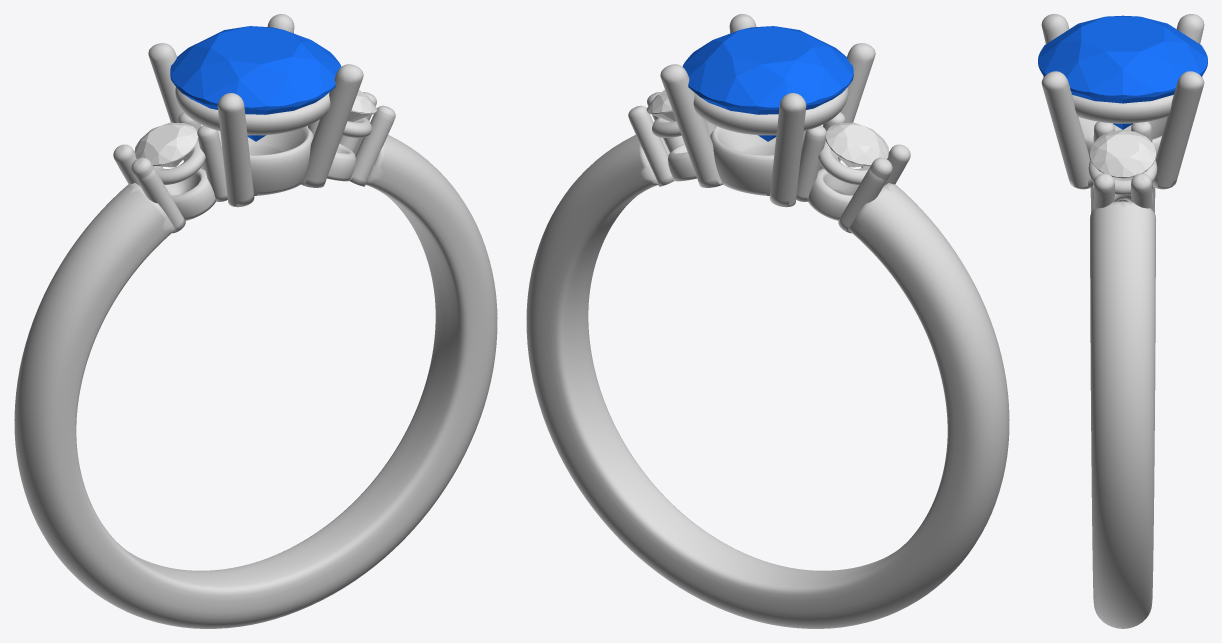
The model's file is bluesapphire-round-platinum-4prong-straightband-2stone.glb.
3 renders of one model, left to right at view 1: azimuth 30°, elevation 25°; view 2: azimuth 150°, elevation 25°; view 3: azimuth 270°, elevation 25°, orthographic.
Visible parts, largest first — view 1: metal, stone, side.001; view 2: metal, stone, side.001; view 3: metal, stone, side.
Boxes of the visible parts, left/top/right/bottom form: metal: left=14, top=14, right=497, bottom=628; stone: left=170, top=26, right=341, bottom=141; side.001: left=134, top=122, right=198, bottom=167; metal: left=526, top=14, right=1009, bottom=628; stone: left=682, top=26, right=853, bottom=141; side.001: left=825, top=122, right=889, bottom=167; metal: left=1041, top=14, right=1204, bottom=628; stone: left=1038, top=15, right=1207, bottom=129; side: left=1090, top=130, right=1155, bottom=178.
Bounding box in the file's own units: 20.5 × 23.81 × 6.44.
